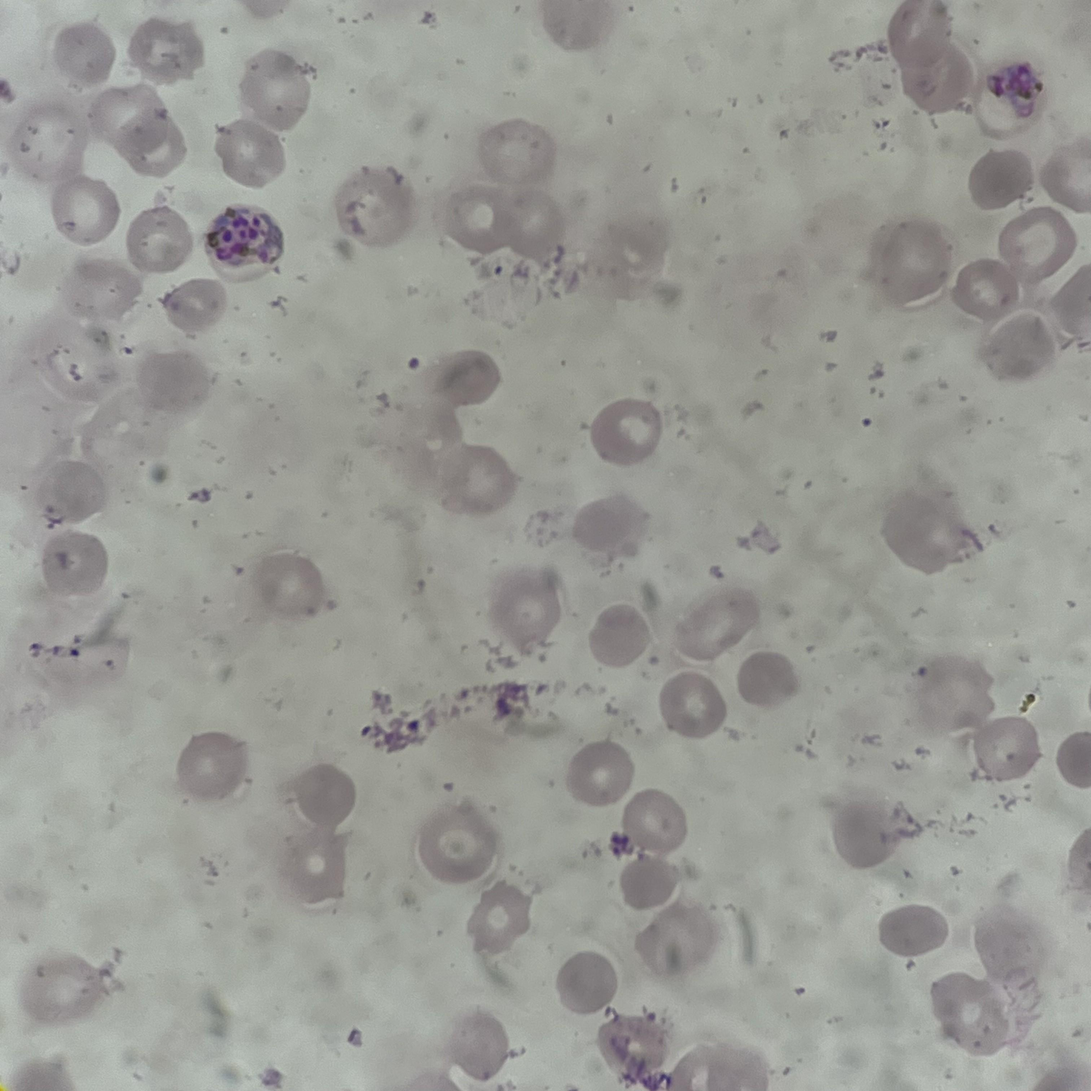Infected: (198, 199, 285, 285), (969, 50, 1051, 141)
Uninfected: (413, 798, 500, 880), (874, 220, 950, 310), (925, 972, 1008, 1053), (492, 567, 566, 655), (1002, 203, 1076, 290), (335, 166, 416, 245), (91, 79, 168, 155), (477, 112, 556, 186), (436, 441, 512, 516), (240, 53, 317, 125), (587, 395, 667, 464), (283, 827, 351, 906), (884, 5, 964, 70), (830, 790, 897, 866), (442, 176, 505, 256), (562, 740, 635, 809), (52, 176, 123, 245), (171, 732, 245, 797), (252, 546, 321, 615), (975, 717, 1045, 785), (504, 187, 565, 265), (905, 42, 968, 117), (39, 455, 105, 526), (950, 255, 1015, 326), (126, 19, 204, 78), (118, 112, 186, 179), (43, 536, 110, 604), (549, 951, 617, 1018), (219, 121, 284, 190), (872, 903, 949, 960), (985, 315, 1054, 378), (591, 602, 653, 672), (130, 205, 190, 276), (626, 786, 687, 854), (665, 670, 726, 738), (469, 885, 529, 954), (973, 149, 1034, 214), (161, 282, 229, 337), (54, 21, 112, 82), (289, 769, 354, 823), (620, 852, 678, 909), (735, 649, 793, 702)
